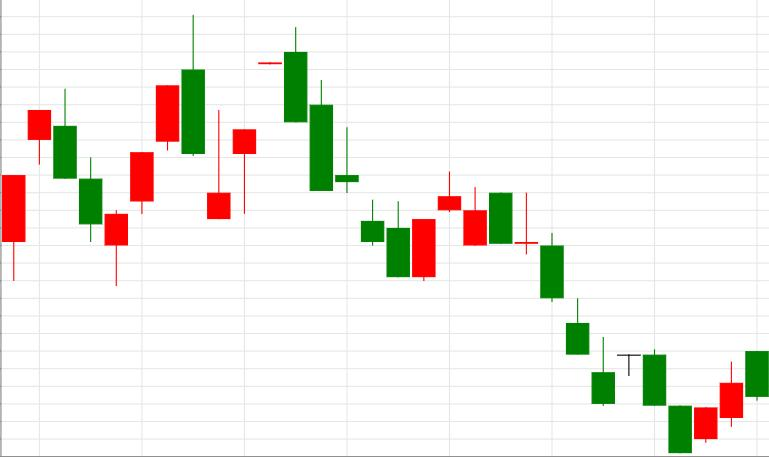bearish_engulfing_fall: (105, 15, 205, 285)
inverse_hammer_rise: (490, 193, 615, 406)
three_white_soldiers_rise: (28, 85, 179, 286)
